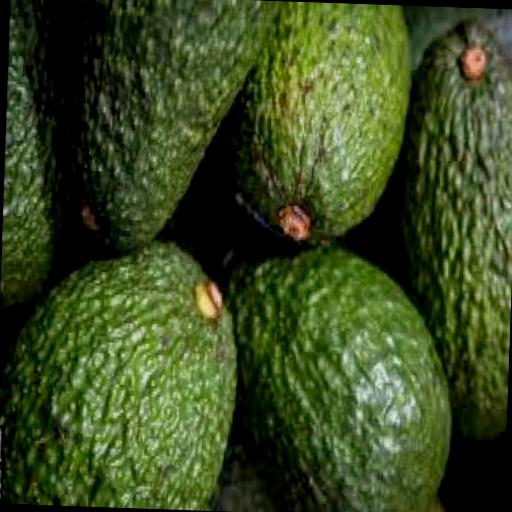biodegradable: (210, 247, 459, 512), (0, 239, 243, 509), (43, 0, 286, 252), (393, 16, 512, 454), (212, 2, 414, 257), (0, 0, 74, 309)
